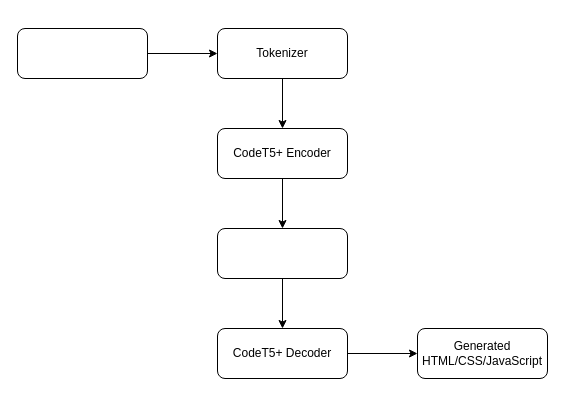
Image size: 565x396. Some labels were removed from this diagram. The shapes that lost their labels are listed below. From the top down, each one's box as (x1, y1, x2, y2) in pixels, then its label:
(16, 28, 148, 78): Natural Language Description
(216, 228, 348, 278): Context Representation
